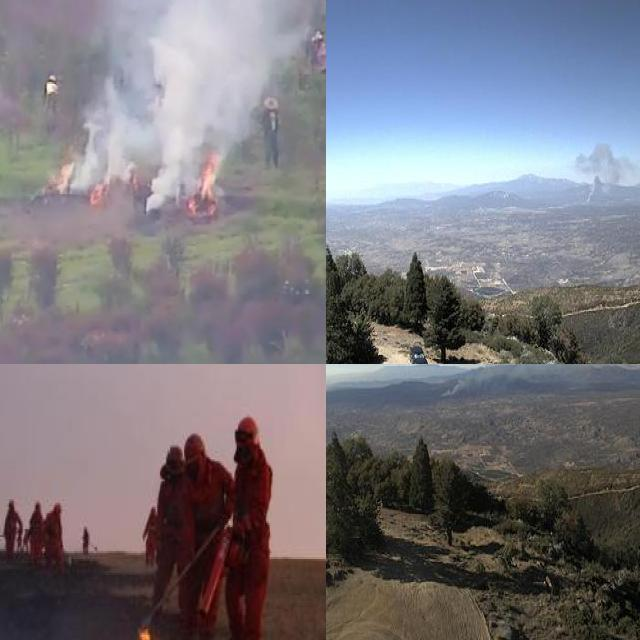smoke: (63, 0, 326, 214), (435, 364, 603, 398), (564, 141, 640, 208)
